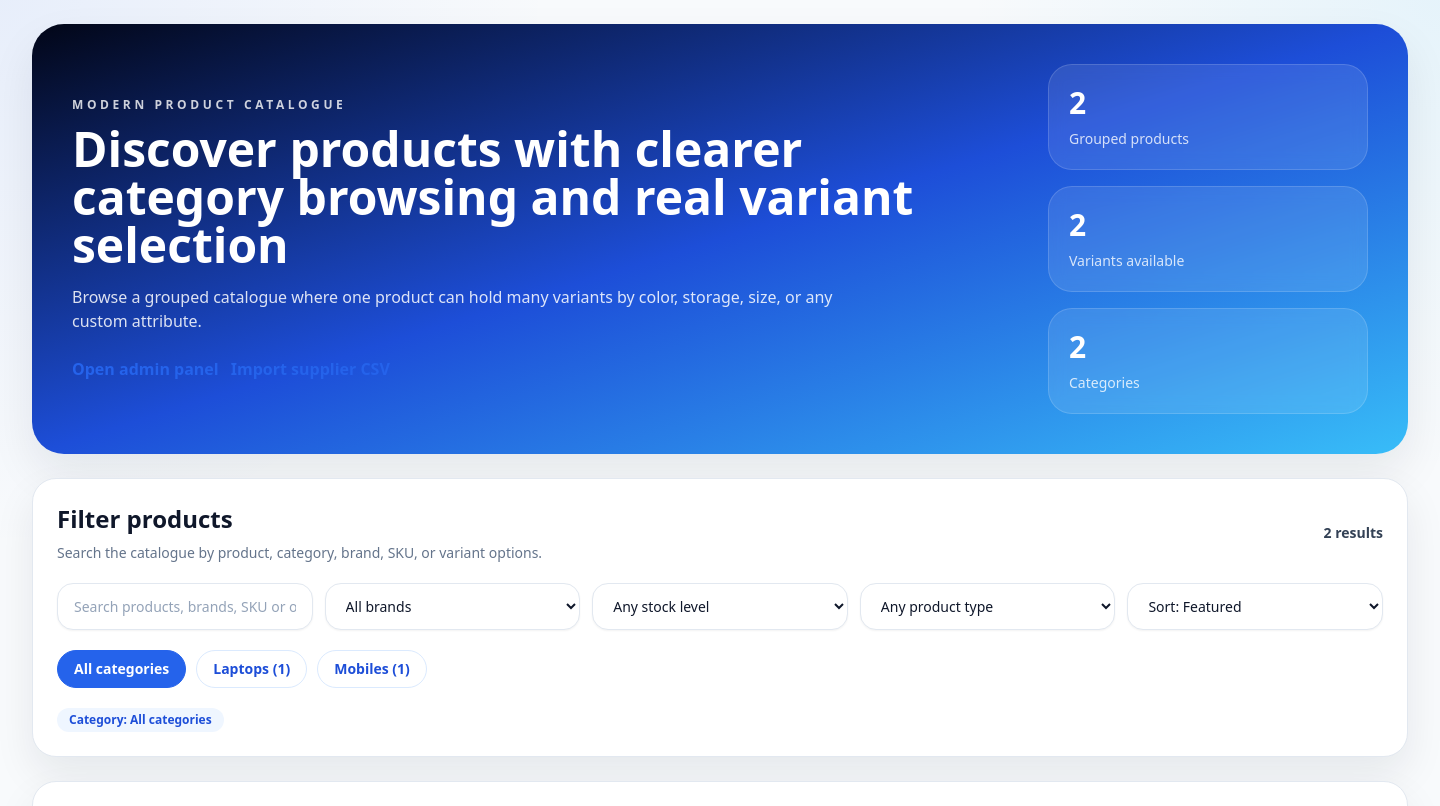
Scenario: CataloguePage filters › filters the home page catalogue by category chip
Click the button "Laptops (1)". click: (252, 669)
box: [196, 650, 307, 688]
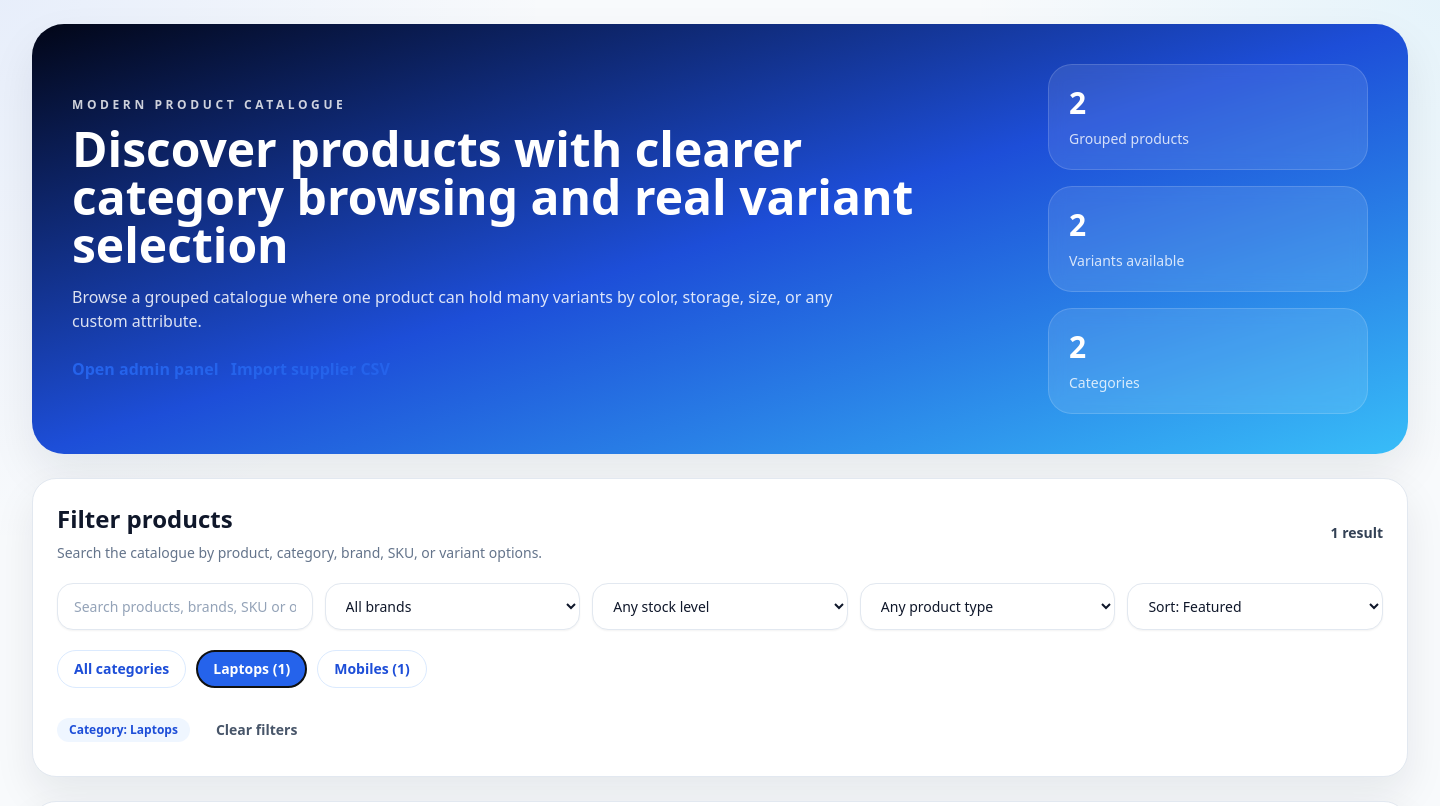
Expected: the text "Category: Laptops" is shown, [57, 718, 190, 742]
